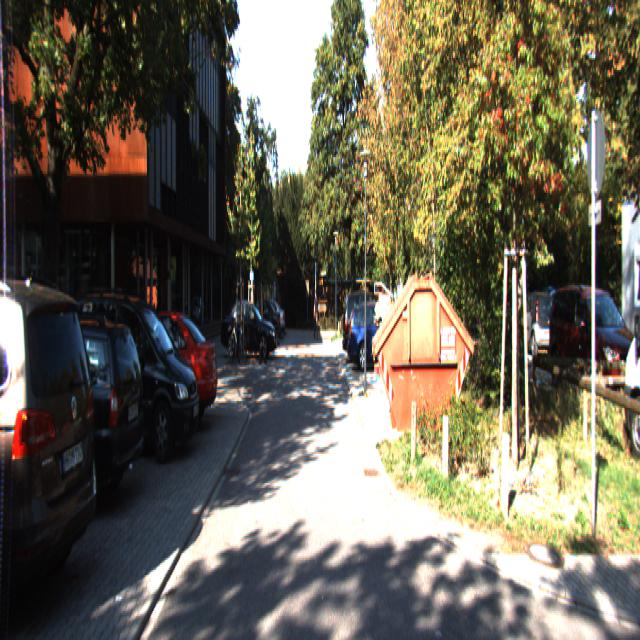Car: (0, 260, 106, 638), (0, 305, 151, 519), (63, 280, 203, 462), (98, 307, 220, 434), (546, 277, 640, 409), (616, 261, 640, 475), (348, 298, 410, 369), (343, 290, 400, 364), (222, 300, 278, 358)
